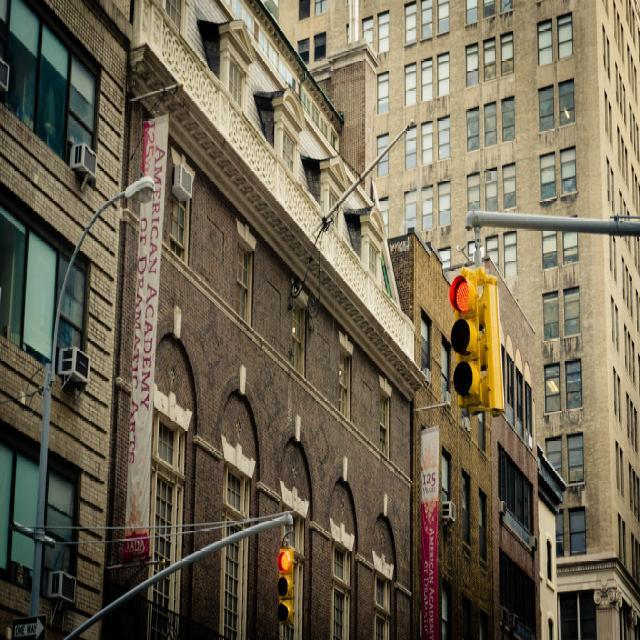traffic light: (448, 271, 492, 415), (275, 547, 299, 622)
